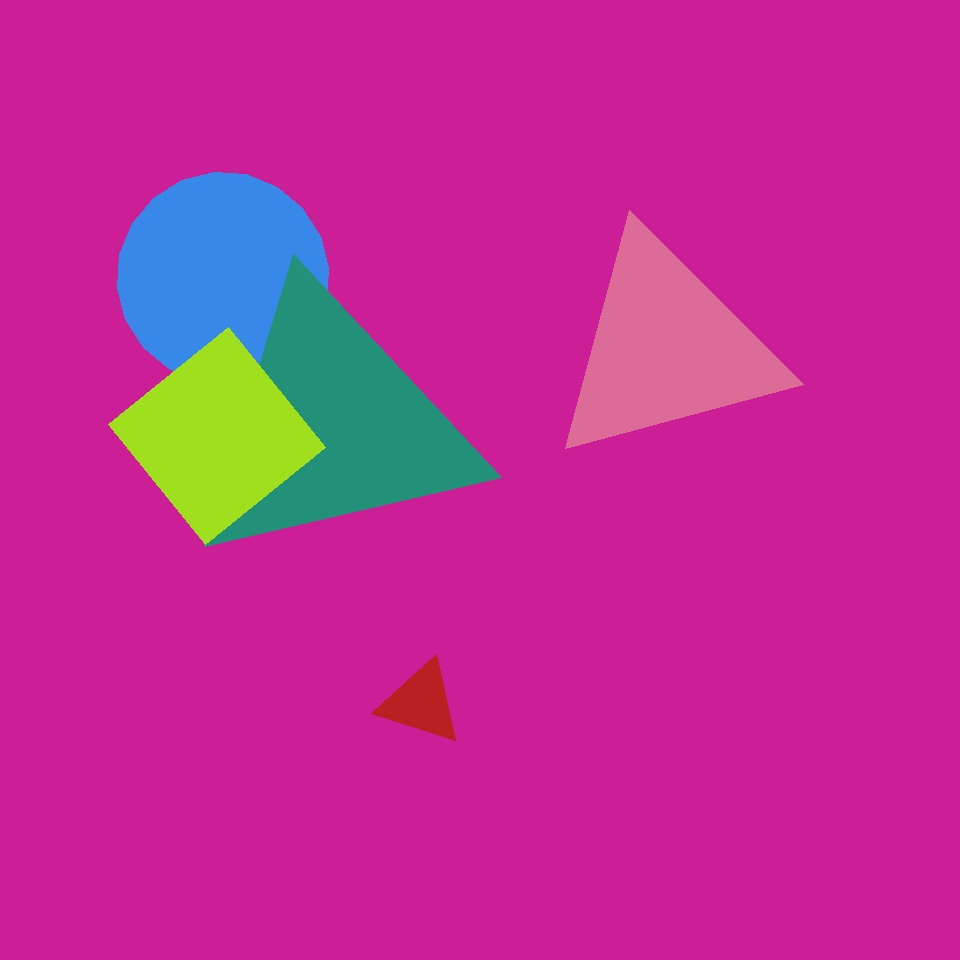circle: (184, 280, 482, 572), (547, 229, 785, 467), (379, 660, 463, 746)
square: (108, 328, 326, 544)
triangle: (118, 173, 328, 384)
